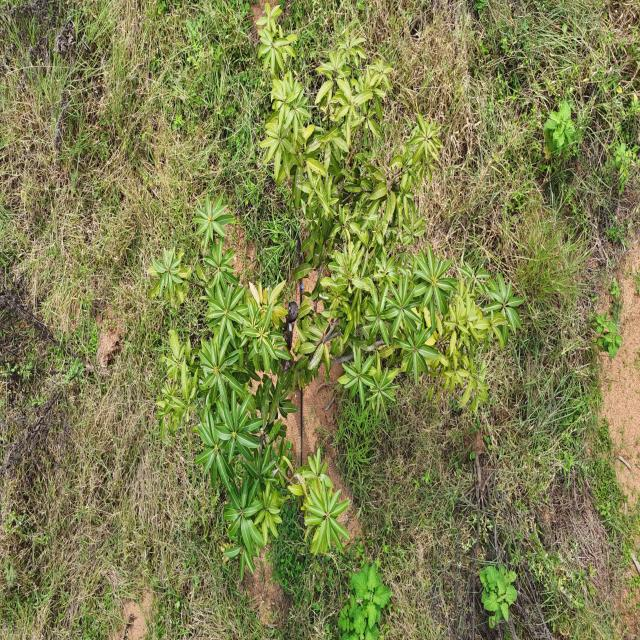mangoTree: (144, 0, 525, 583)
